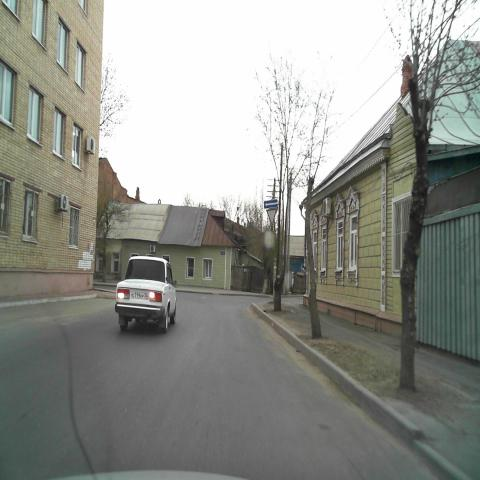5_7_2: (264, 199, 278, 208)
